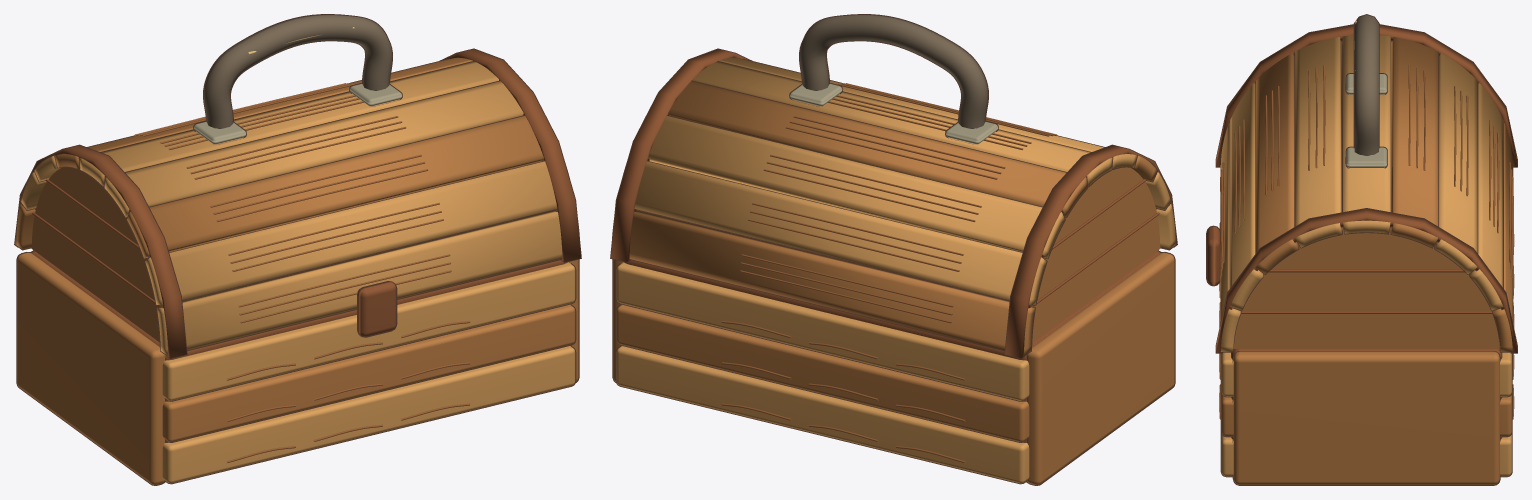
The model's file is assembly_10003.glb.
3 views of the same model, side by side, from view 1: azimuth 30°, elevation 25°; view 2: azimuth 150°, elevation 25°; view 3: azimuth 270°, elevation 25° (orthographic). The views are drawn at different scales.
Visible parts, largest first — view 1: Surface_woodlight.001, Surface_wood.001, Surface_wooddark.001, Surface_grain.001, Surface_ink.002, Surface_edge.002, Surface_metal.002; view 2: Surface_wood.001, Surface_woodlight.001, Surface_wooddark.001, Surface_grain.001, Surface_ink.002, Surface_edge.002, Surface_metal.002; view 3: Surface_wood.001, Surface_woodlight.001, Surface_wooddark.001, Surface_ink.002, Surface_grain.001, Surface_edge.002, Surface_metal.002.
Boxes of the visible parts, box(x1,y1,x2,y2) form: Surface_woodlight.001: box(21, 61, 575, 483); Surface_wood.001: box(16, 58, 578, 484); Surface_wooddark.001: box(15, 49, 580, 442); Surface_grain.001: box(134, 83, 470, 463); Surface_ink.002: box(14, 14, 581, 485); Surface_edge.002: box(203, 15, 392, 128); Surface_metal.002: box(194, 83, 402, 144); Surface_wood.001: box(613, 81, 1174, 484); Surface_woodlight.001: box(616, 58, 1175, 483); Surface_wooddark.001: box(611, 49, 1177, 442); Surface_grain.001: box(721, 83, 1057, 463); Surface_ink.002: box(610, 14, 1177, 485); Surface_edge.002: box(799, 15, 988, 128); Surface_metal.002: box(789, 83, 998, 144); Surface_wood.001: box(1221, 37, 1512, 484); Surface_woodlight.001: box(1220, 35, 1511, 476); Surface_wooddark.001: box(1207, 25, 1517, 439); Surface_ink.002: box(1206, 14, 1517, 485); Surface_grain.001: box(1219, 65, 1514, 419); Surface_edge.002: box(1354, 15, 1378, 155); Surface_metal.002: box(1346, 74, 1387, 167).
Bounding box in the file's own units: 0.833 × 0.6808 × 0.5404.
